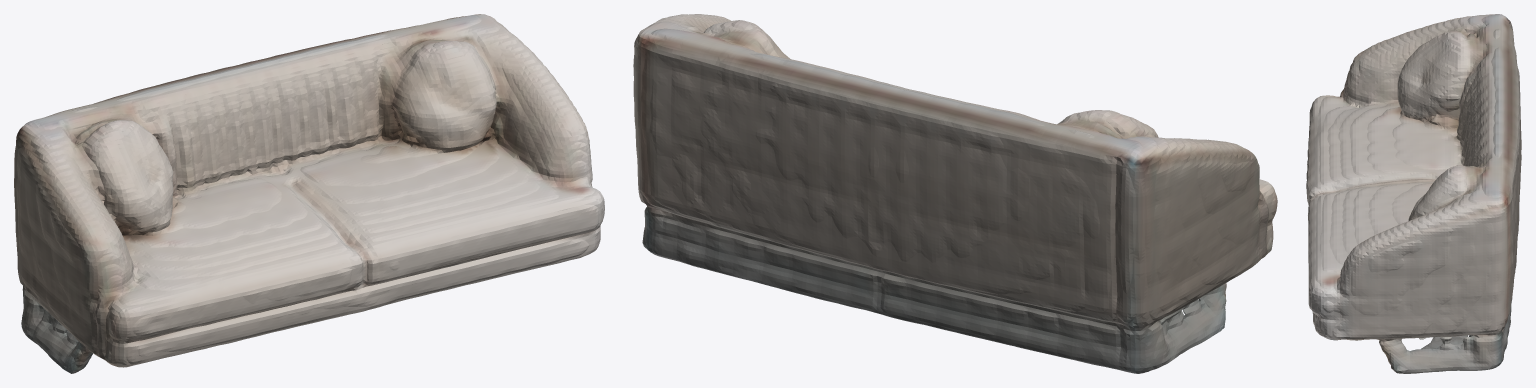
Rendered from icon-velvet-3-seater-sofa-beige.glb.
The picture shows the model from 3 angles, left to right: view 1: azimuth 30°, elevation 25°; view 2: azimuth 150°, elevation 25°; view 3: azimuth 270°, elevation 25°; orthographic projection. The views are drawn at different scales.
Parts seen in each view (by area): view 1: orient; view 2: orient; view 3: orient.
Part boxes in pixels (box(x1,y1,x2,y2)): orient: box(14, 14, 604, 373); orient: box(633, 14, 1277, 373); orient: box(1306, 14, 1521, 373).
Bounding box in the file's own units: 2.02 × 0.8 × 0.89.
